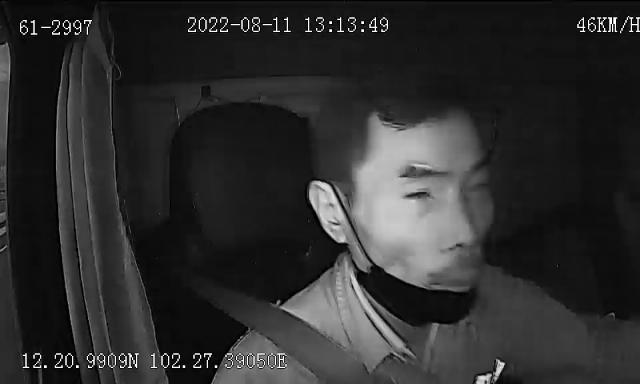SafeDriving: (397, 179, 441, 208)
Seatbelt: (210, 292, 366, 384)
